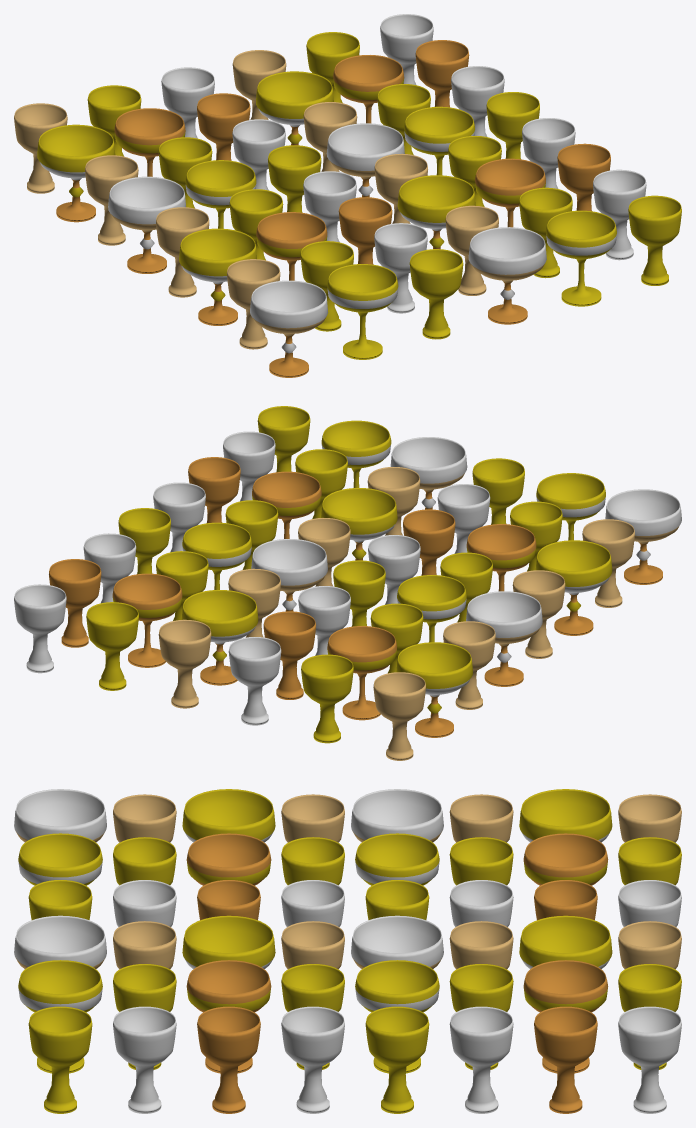
Rendered from Medieval_Cups.fbx.
3 renders of one model, top to bottom at view 1: azimuth 30°, elevation 25°; view 2: azimuth 150°, elevation 25°; view 3: azimuth 270°, elevation 25°, orthographic. The views are drawn at different scales.
Parts seen in each view (by area): view 1: Cylinder.037, Cylinder.010, Cylinder.022, Cylinder.013, Cylinder.001, Cylinder.036, Cylinder.011, Cylinder.034, Cylinder.025, Cylinder.046, Cylinder.009, Cylinder.038 (+36 smaller); view 2: Cylinder.013, Cylinder.001, Cylinder.022, Cylinder.010, Cylinder.025, Cylinder.024, Cylinder.023, Cylinder.034, Cylinder.037, Cylinder.046, Cylinder.019, Cylinder.018 (+36 smaller); view 3: Cylinder.032, Cylinder.027, Cylinder.045, Cylinder.039, Cylinder.044, Cylinder.026, Cylinder.038, Cylinder.033, Cylinder.034, Cylinder.037, Cylinder.010, Cylinder.013 (+36 smaller).
Part boxes in pixels (x1,y1,x2,y2): Cylinder.037: [468, 227, 546, 324]; Cylinder.010: [250, 280, 328, 377]; Cylinder.022: [37, 124, 115, 222]; Cylinder.013: [108, 176, 185, 273]; Cylinder.001: [179, 228, 256, 325]; Cylinder.036: [546, 210, 616, 306]; Cylinder.011: [327, 264, 398, 359]; Cylinder.034: [326, 123, 404, 197]; Cylinder.025: [256, 71, 333, 145]; Cylinder.046: [397, 175, 475, 249]; Cylinder.009: [409, 249, 463, 339]; Cylinder.038: [628, 195, 681, 285]; Cylinder.013: [466, 591, 542, 686]; Cylinder.001: [535, 540, 612, 635]; Cylinder.022: [396, 642, 472, 737]; Cylinder.010: [605, 489, 681, 584]; Cylinder.025: [181, 589, 258, 685]; Cylinder.024: [112, 573, 182, 667]; Cylinder.023: [327, 626, 397, 720]; Cylinder.034: [251, 539, 327, 611]; Cylinder.037: [390, 437, 467, 509]; Cylinder.046: [321, 488, 397, 560]; Cylinder.019: [301, 654, 353, 743]; Cylinder.018: [373, 672, 425, 760]; Cylinder.032: [449, 1006, 513, 1113]; Cylinder.027: [618, 1006, 681, 1113]; Cylinder.045: [197, 1006, 260, 1113]; Cylinder.039: [113, 1006, 176, 1113]; Cylinder.044: [281, 1006, 344, 1113]; Cylinder.026: [534, 1006, 597, 1113]; Cylinder.038: [28, 1006, 92, 1113]; Cylinder.033: [365, 1006, 429, 1113]; Cylinder.034: [351, 915, 443, 968]; Cylinder.037: [14, 915, 106, 968]; Cylinder.010: [14, 789, 106, 842]; Cylinder.013: [351, 789, 443, 842].
Bounding box in the file's own units: 3446 × 572 × 3966.
